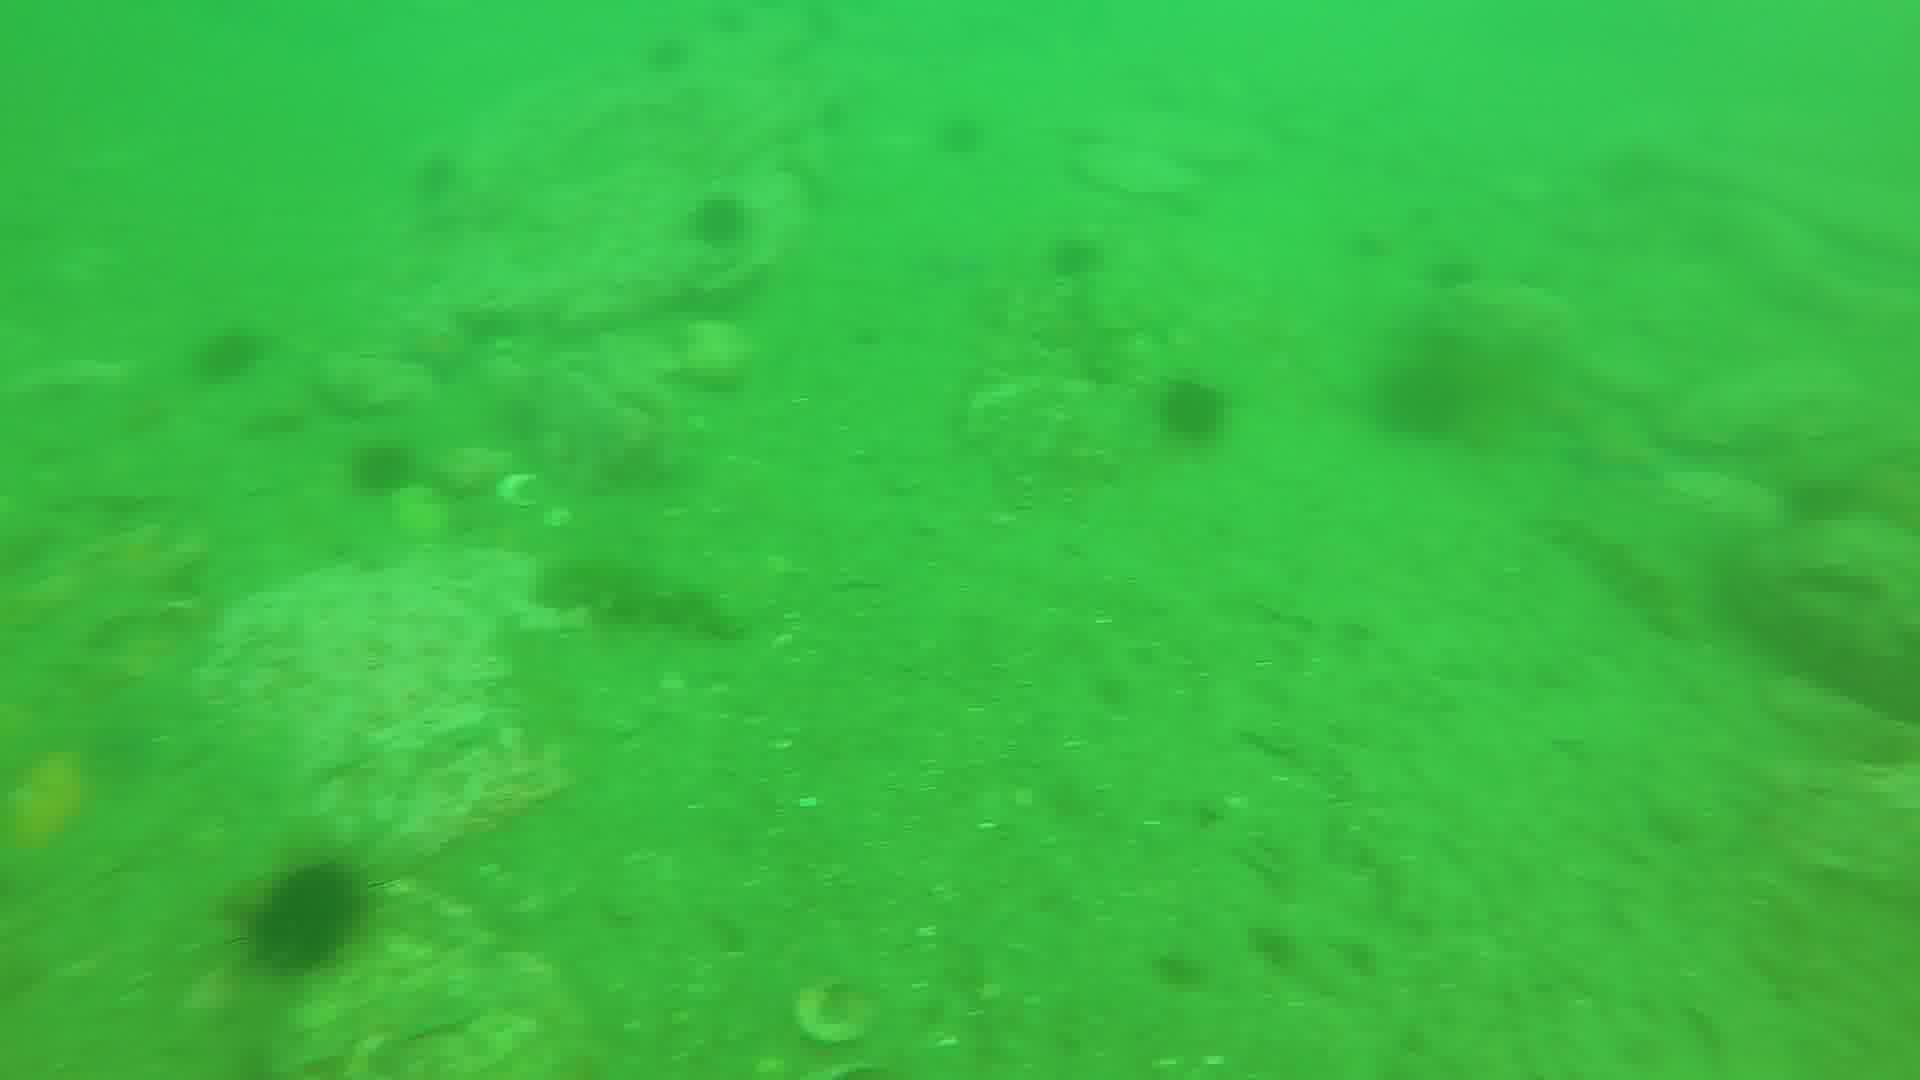echinus: (245, 853, 369, 975), (1377, 353, 1468, 444), (1162, 375, 1232, 440), (345, 431, 418, 488), (191, 331, 260, 384), (692, 194, 750, 244), (1044, 240, 1114, 278), (419, 142, 462, 204), (645, 29, 703, 66)
holothurian: (1536, 502, 1691, 647), (541, 553, 749, 640)
